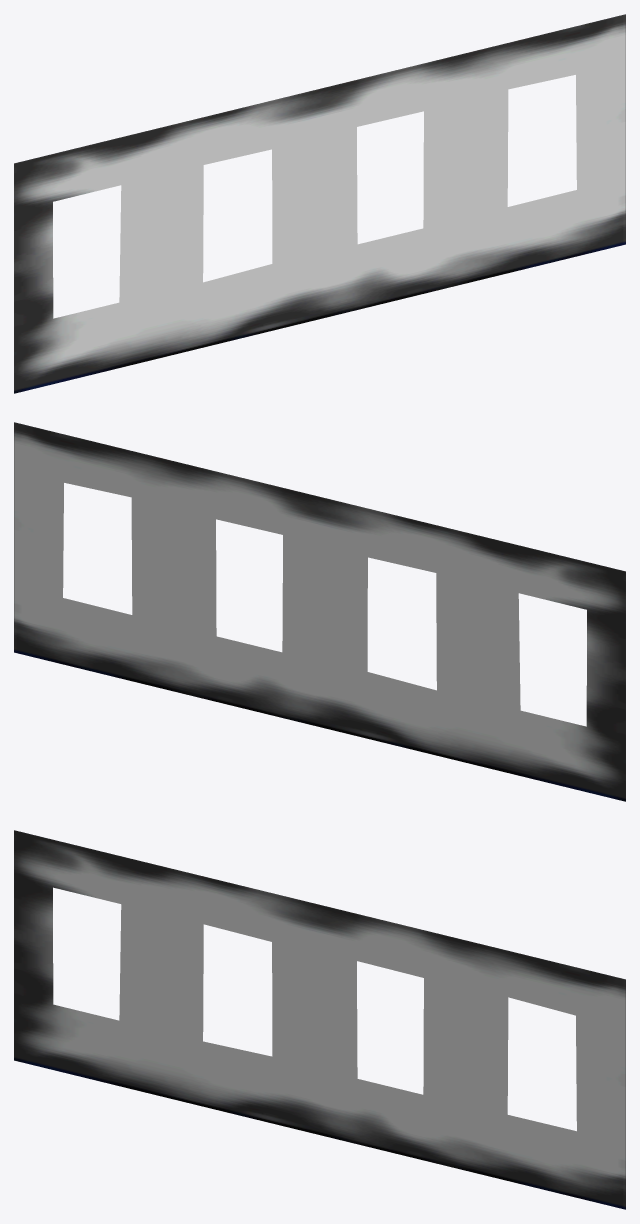
The model's file is W_AI2l_ffff_448.glb.
3 renders of one model, top to bottom at view 1: azimuth 30°, elevation 25°; view 2: azimuth 150°, elevation 25°; view 3: azimuth 330°, elevation 25°, orthographic.
Parts seen in each view (by area): view 1: polySurfaceShape932; view 2: polySurfaceShape932; view 3: polySurfaceShape932.
Part boxes in pixels (bbox=[...]): polySurfaceShape932: bbox=[14, 14, 625, 393]; polySurfaceShape932: bbox=[14, 422, 625, 801]; polySurfaceShape932: bbox=[14, 830, 625, 1209].
Size of the model in its own units: 0.9692 by 0.3486 by 1.31e-07.
1 material, 1 textured.
